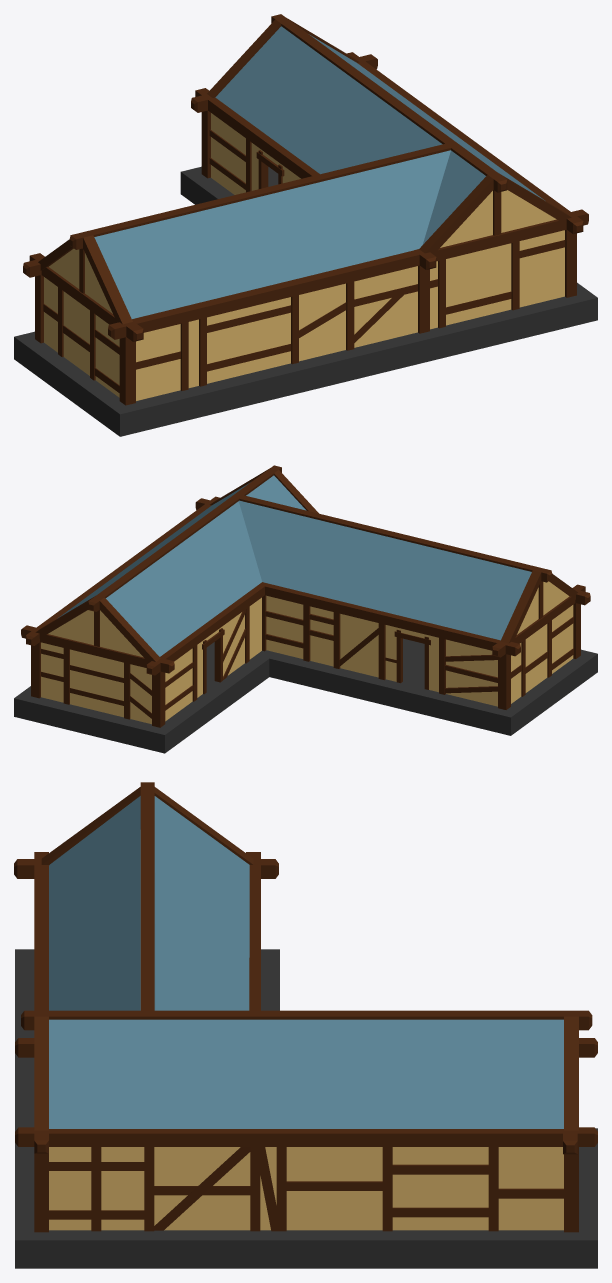
File: LOD_City_SmallHouse02_LOD0.fbx
3 renders of one model, top to bottom at view 1: azimuth 30°, elevation 25°; view 2: azimuth 150°, elevation 25°; view 3: azimuth 270°, elevation 25°, orthographic. The views are drawn at different scales.
Visible parts, largest first — view 1: MBS_City_SmallHouse02_LOD0; view 2: MBS_City_SmallHouse02_LOD0; view 3: MBS_City_SmallHouse02_LOD0.
Boxes of the visible parts, <box> form: MBS_City_SmallHouse02_LOD0: <box>14,14,597,436</box>; MBS_City_SmallHouse02_LOD0: <box>14,465,597,753</box>; MBS_City_SmallHouse02_LOD0: <box>14,782,597,1268</box>.
Size of the model in its own units: 2604 by 828 by 2204.
